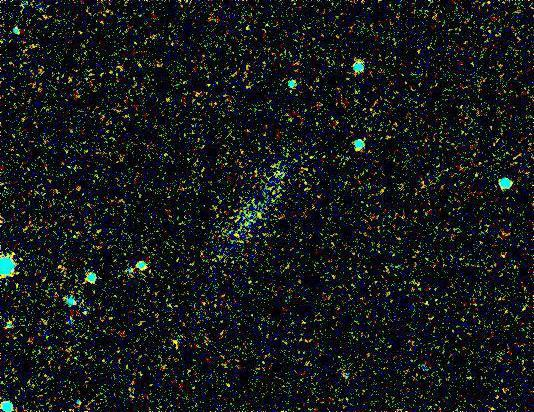star: (163, 328, 193, 358)
